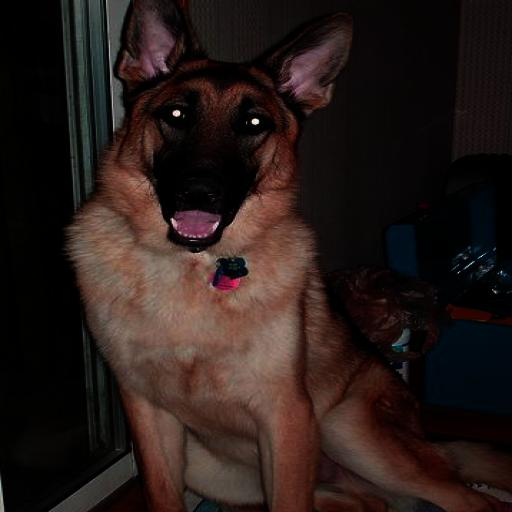dog_face: (112, 0, 346, 244)
